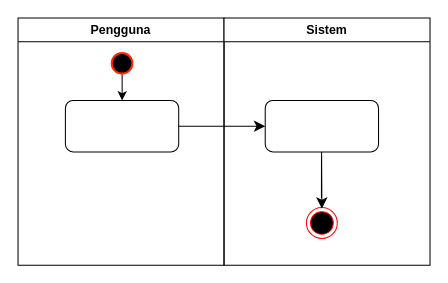
Some shapes in this 448 by 283 pixel diagram are drawn without their labels. Each missing label, with the centre of its shape:
"Membuka Aplikasi" belongs at [121,125].
"Menampilkan Main Menu" belongs at [321,125].
